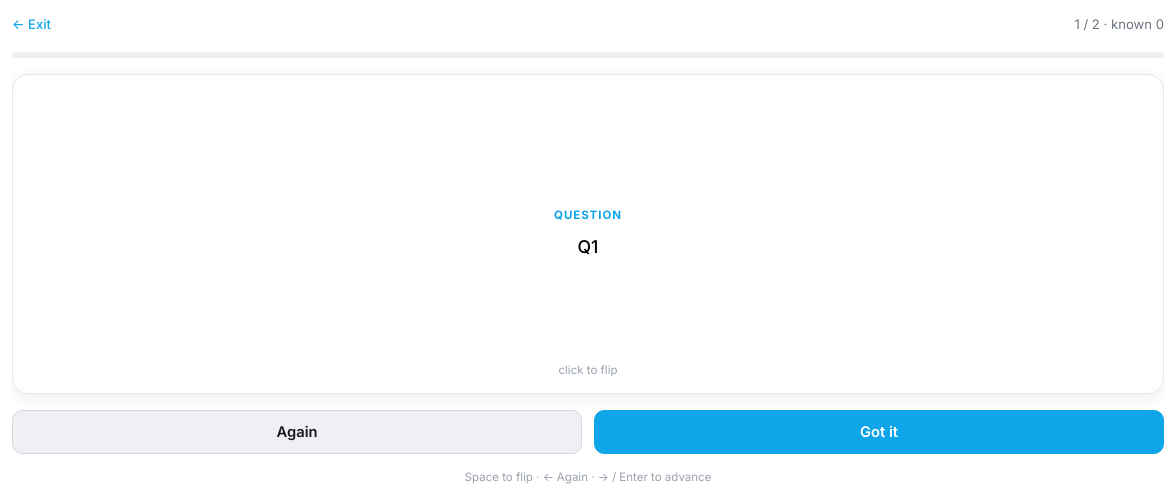
Scenario: StudyMode › advances through cards and shows a completion score
Expected: the text "1 / 2 · known 0" is shown, [1074, 16, 1164, 32]
Click the button "Got it" at [879, 432], box [594, 410, 1164, 454]
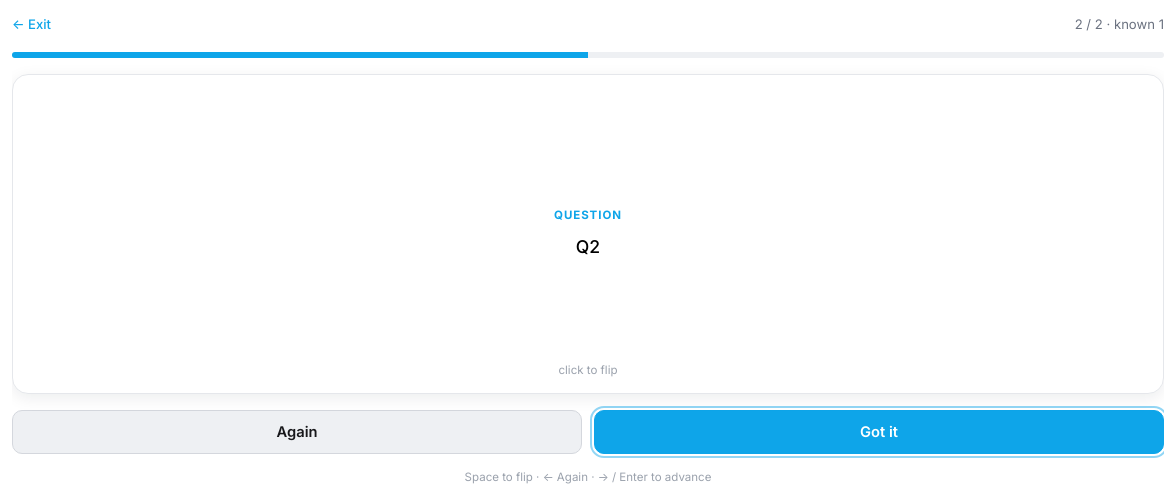
Expected: the text "2 / 2 · known 1" is shown, [1075, 16, 1164, 32]
Click the button "Got it" at [879, 432], box [594, 410, 1164, 454]
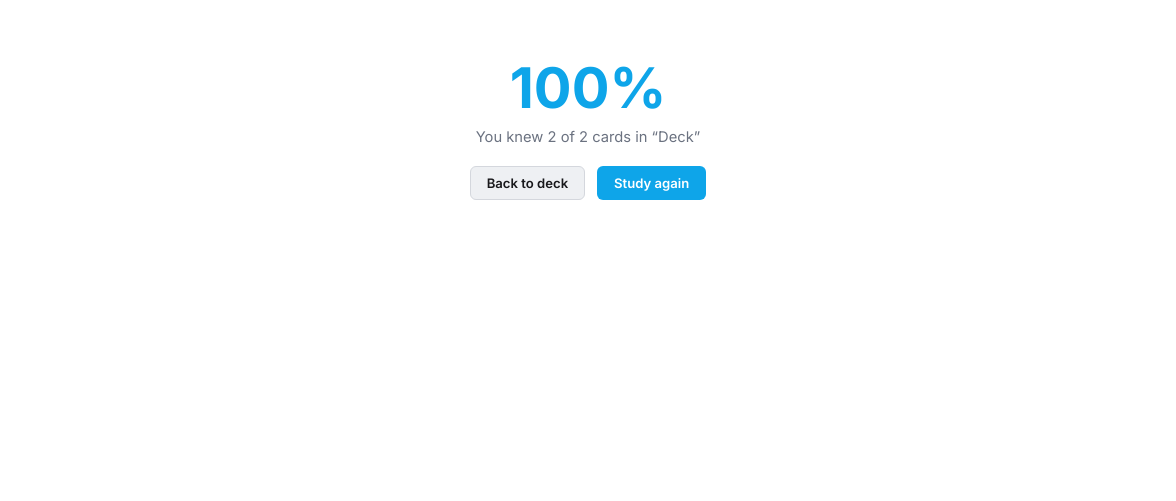
Expected: the text "100%" is shown, [510, 60, 666, 116]
Expected: the text "You knew 2 of 2 cards in “Deck”" is shown, [476, 128, 700, 146]
